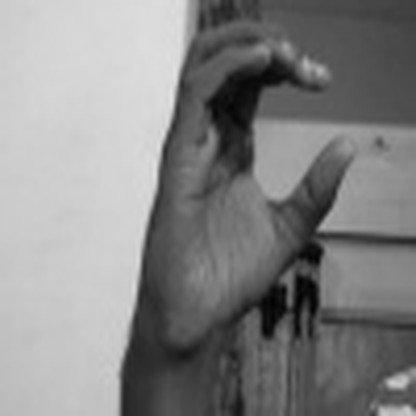c: (126, 10, 357, 308)
